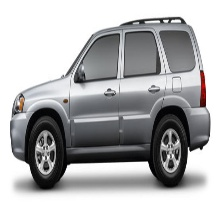no damage: (10, 21, 211, 188)
